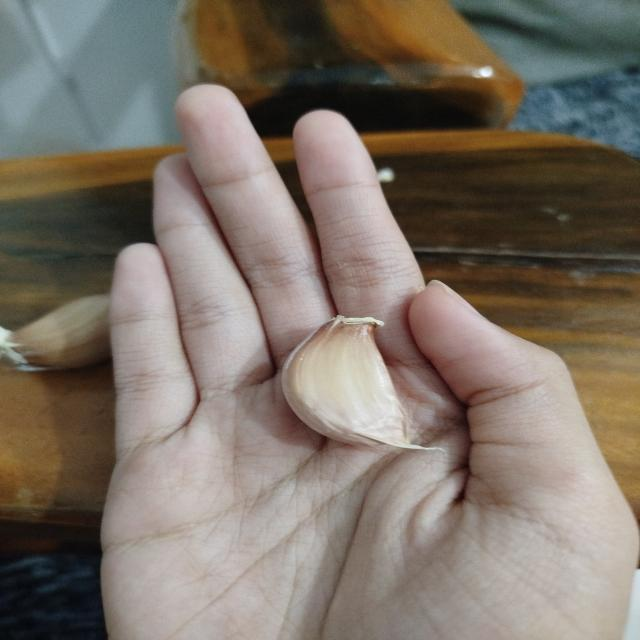garlic: (280, 314, 446, 452)
